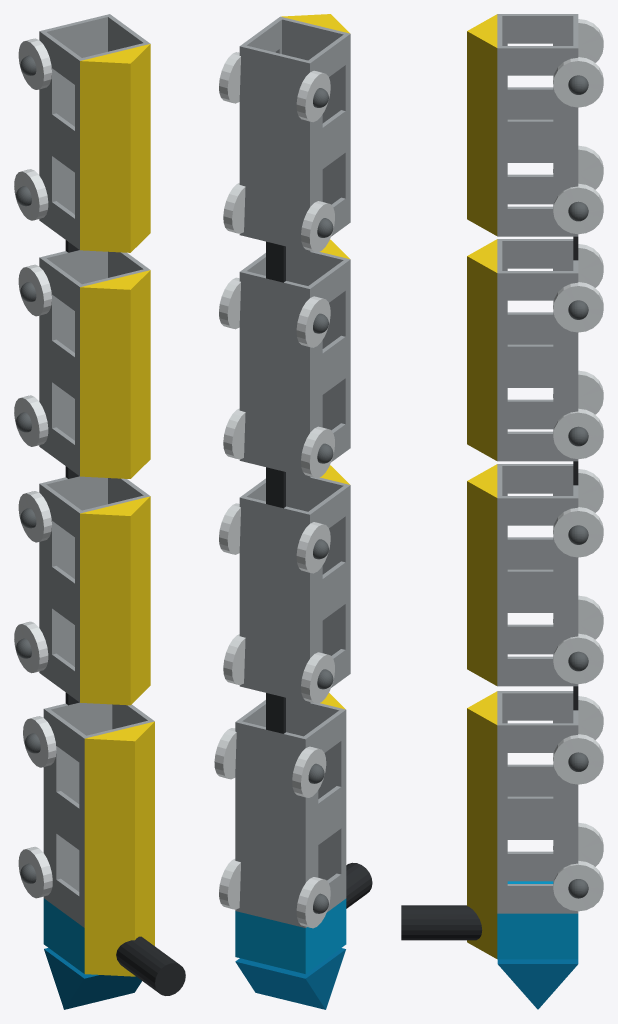
The model's file is tinker.obj.
3 renders of one model, left to right at view 1: azimuth 30°, elevation 25°; view 2: azimuth 150°, elevation 25°; view 3: azimuth 270°, elevation 25°, orthographic.
Parts seen in each view (by area): view 1: group_0_16768282, group_0_10988977, group_0_14541540, group_0_2829873, group_0_30377, group_0_6383466, group_0_40919; view 2: group_0_10988977, group_0_14541540, group_0_40919, group_0_30377, group_0_2829873, group_0_6383466, group_0_16768282; view 3: group_0_10988977, group_0_16768282, group_0_14541540, group_0_40919, group_0_2829873, group_0_6383466, group_0_30377.
Boxes of the visible parts, x1,y1,x2,y2 form: group_0_16768282: (80, 44, 154, 976); group_0_10988977: (39, 14, 154, 927); group_0_14541540: (14, 38, 56, 898); group_0_2829873: (65, 240, 185, 995); group_0_30377: (44, 948, 141, 1009); group_0_6383466: (16, 55, 40, 883); group_0_40919: (43, 898, 84, 973); group_0_10988977: (235, 16, 350, 927); group_0_14541540: (214, 52, 334, 928); group_0_40919: (235, 898, 346, 973); group_0_30377: (235, 948, 345, 1009); group_0_2829873: (266, 241, 372, 908); group_0_6383466: (308, 88, 333, 913); group_0_16768282: (281, 14, 349, 709); group_0_10988977: (497, 14, 578, 913); group_0_16768282: (467, 14, 497, 958); group_0_14541540: (553, 19, 603, 911); group_0_40919: (497, 881, 578, 959); group_0_2829873: (401, 236, 578, 940); group_0_6383466: (568, 75, 588, 898); group_0_30377: (497, 959, 578, 1009).
Size of the model in its own units: 26 by 209 by 40.
